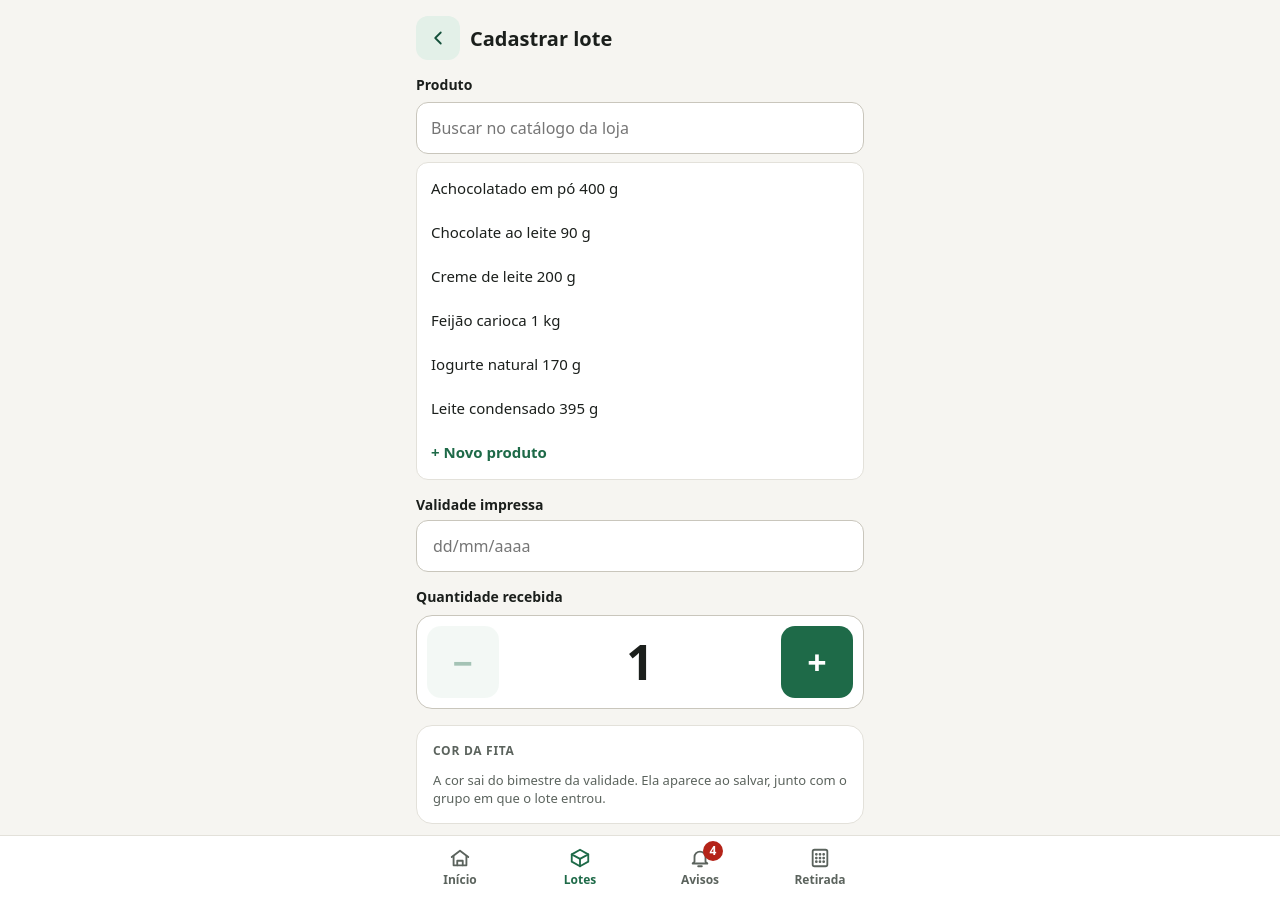
Test case: L3 · Cadastro do lote — os 3 resultados vêm da API › "+ Novo produto" → L2 → volta para a L3 com o produto escolhido
This screenshot has width=1280, height=900.
Type "Atum" into the search field named "Buscar produto no catálogo" at (640, 128), box [416, 102, 864, 154]
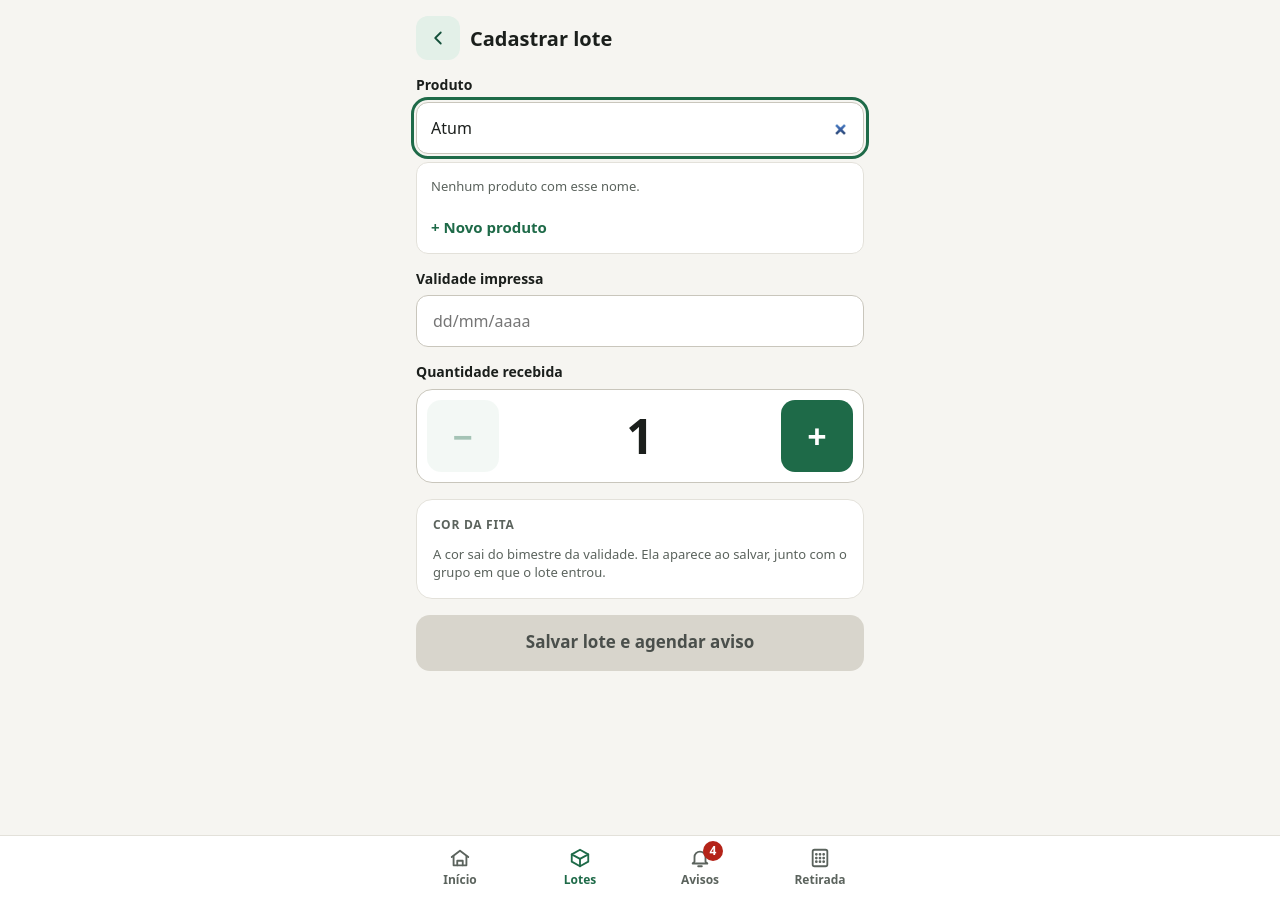
Click the button "+ Novo produto" at (489, 226), box [421, 205, 859, 249]
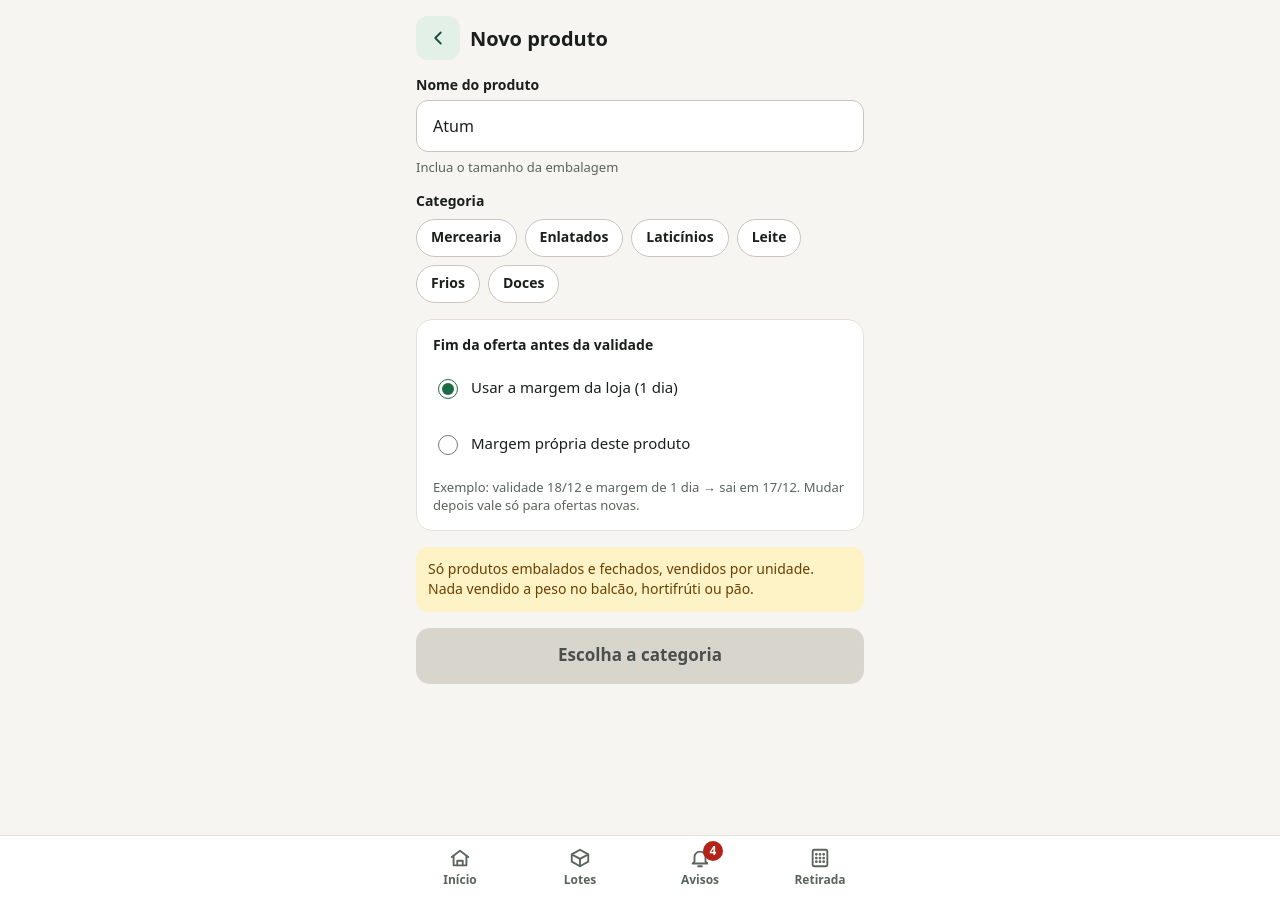
Expected: the field labelled "Nome do produto" holds "Atum"
Expected: the text "Só produtos embalados e fechados" is shown, [428, 559, 814, 598]
Expected: the radio button labelled "Usar a margem da loja (1 dia)" is checked, [438, 379, 458, 399]
Type " em lata 170 g" into the field labelled "Nome do produto" at (644, 126), box [431, 101, 857, 151]
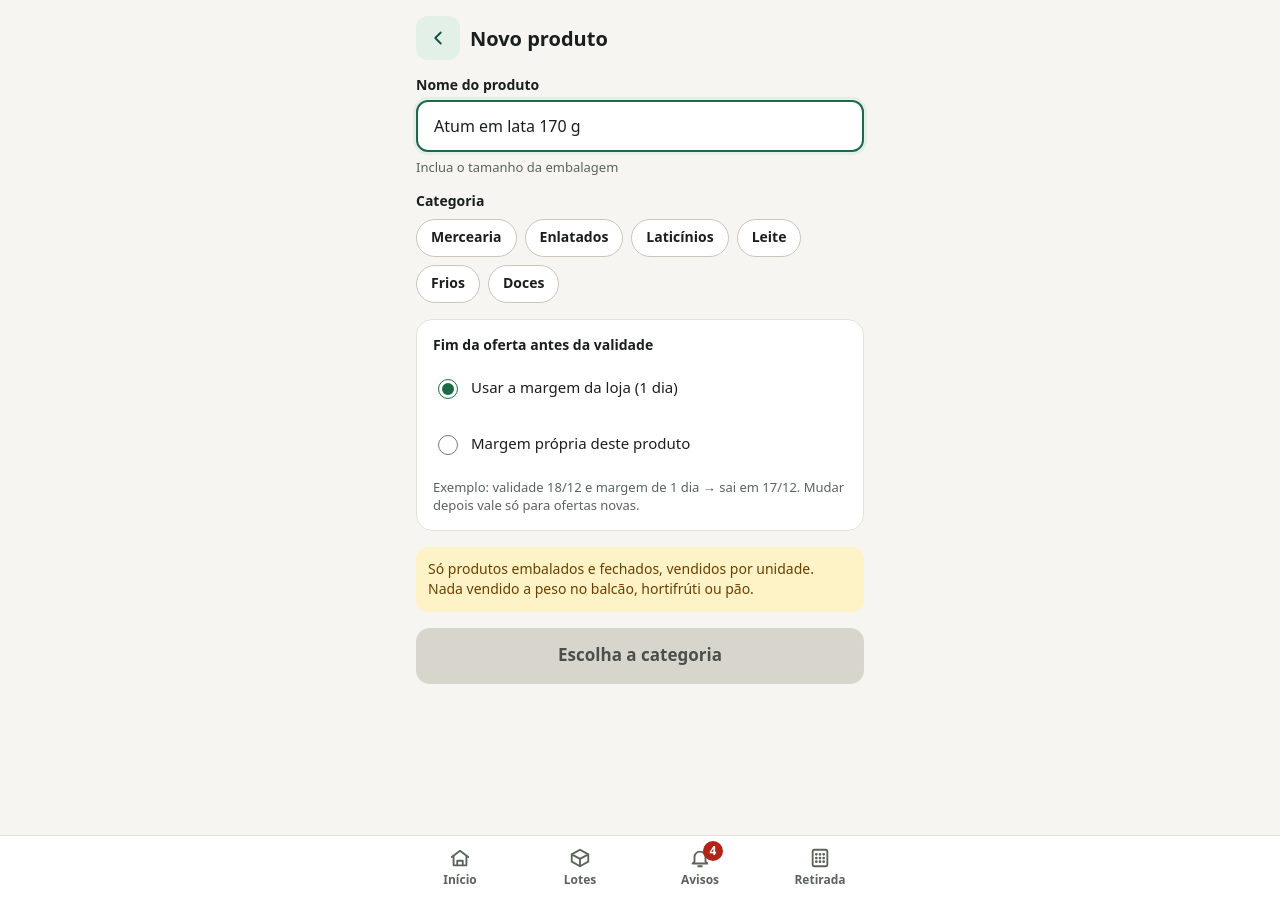
Click the button "Enlatados" at (574, 238), box [525, 219, 623, 257]
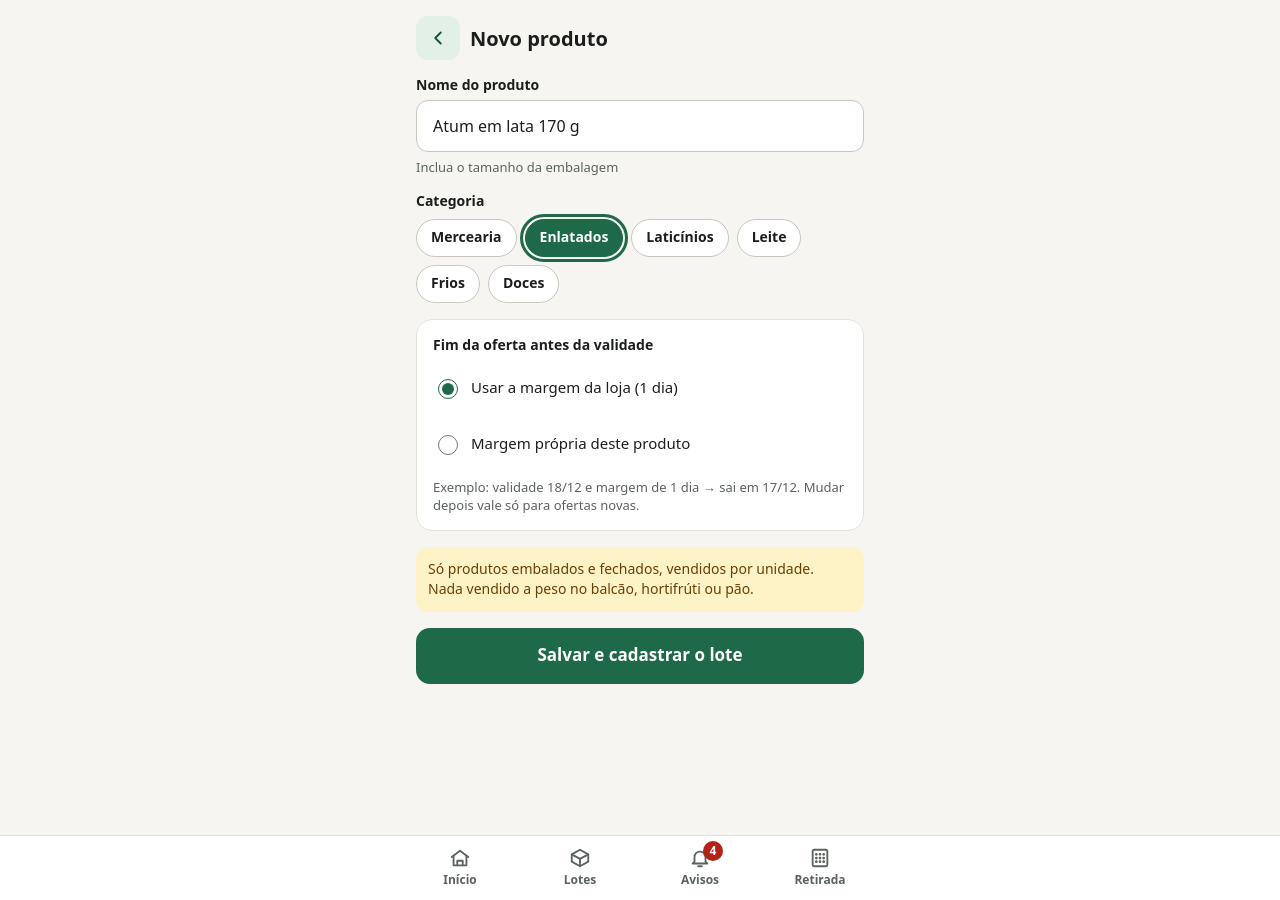
Click the button "Salvar e cadastrar o lote" at (640, 656), box [416, 628, 864, 684]
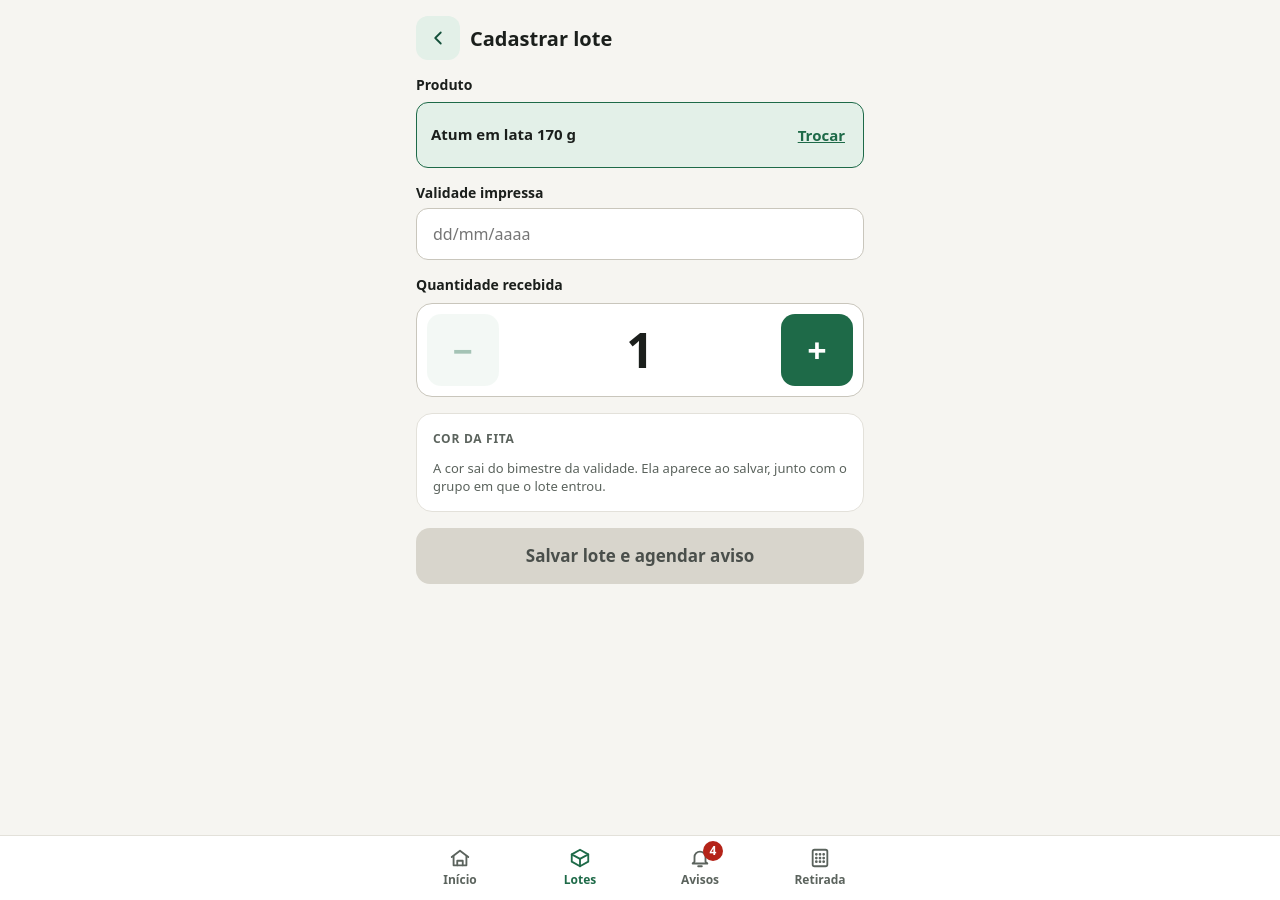
Expected: the text "Atum em lata 170 g" is shown, [431, 124, 576, 146]
Expected: the button "Trocar" is shown, [794, 113, 849, 157]
